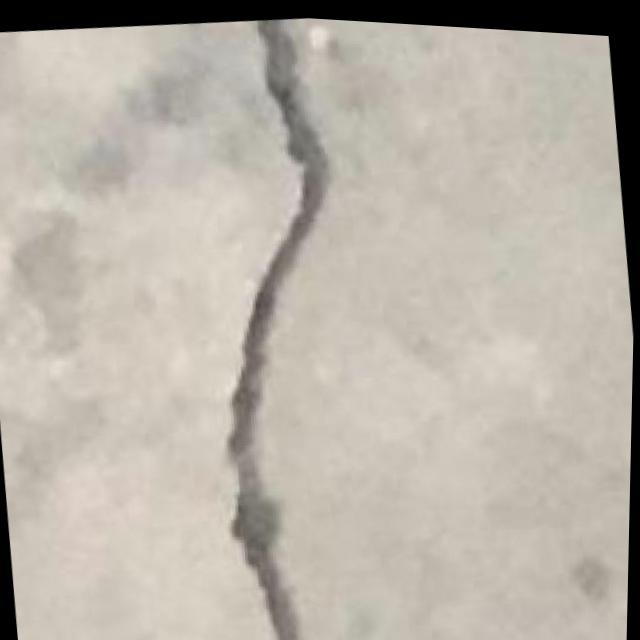Crack: (166, 8, 396, 640)
